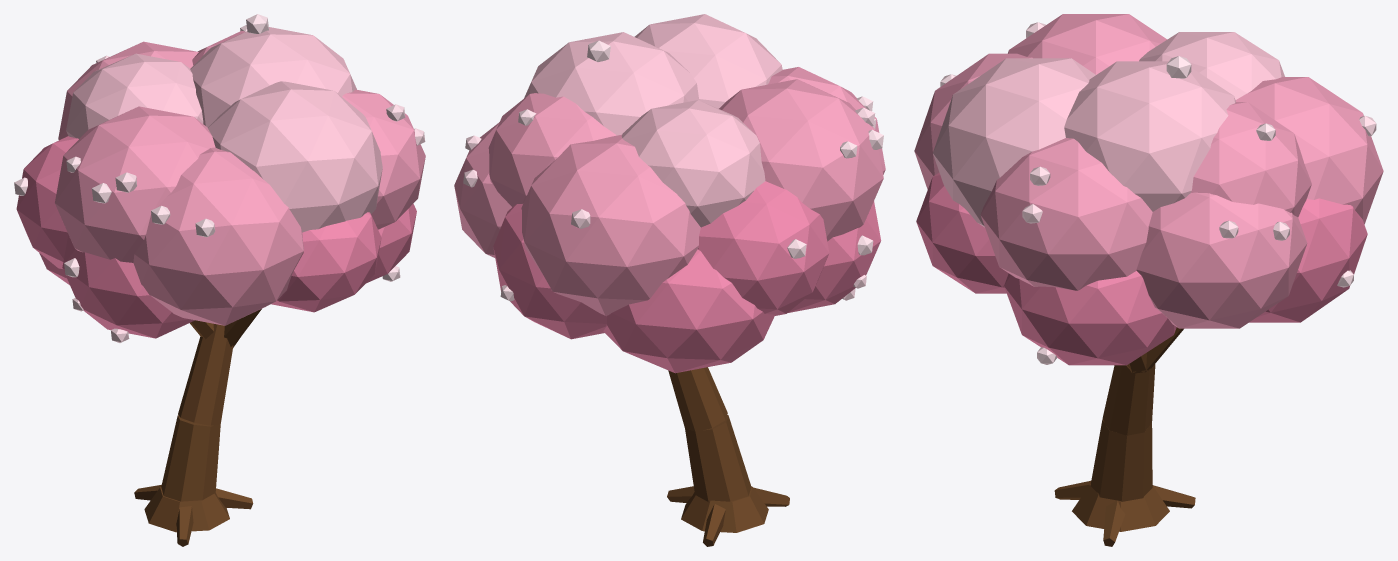
The model's file is tree-blossom.glb.
3 renders of one model, left to right at view 1: azimuth 30°, elevation 25°; view 2: azimuth 150°, elevation 25°; view 3: azimuth 270°, elevation 25°, orthographic. The views are drawn at different scales.
Visible parts, largest first — view 1: Blossom_Crown, Blossom_Trunk; view 2: Blossom_Crown, Blossom_Trunk; view 3: Blossom_Crown, Blossom_Trunk.
Boxes of the visible parts, x1=… form: Blossom_Crown: x1=14, y1=14, x2=425, y2=342; Blossom_Trunk: x1=134, y1=309, x2=261, y2=546; Blossom_Crown: x1=454, y1=14, x2=885, y2=373; Blossom_Trunk: x1=667, y1=367, x2=789, y2=546; Blossom_Crown: x1=914, y1=14, x2=1383, y2=365; Blossom_Trunk: x1=1054, y1=327, x2=1195, y2=546.
Size of the model in its own units: 2.43 by 3.13 by 2.59.
